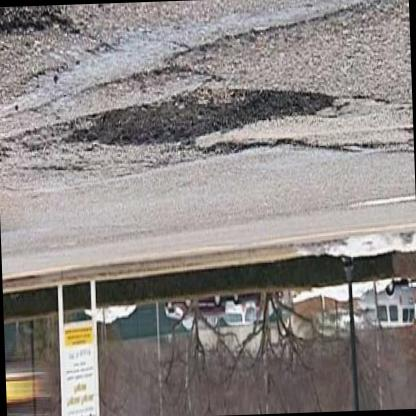pothole: (75, 84, 336, 148), (0, 6, 73, 39)
